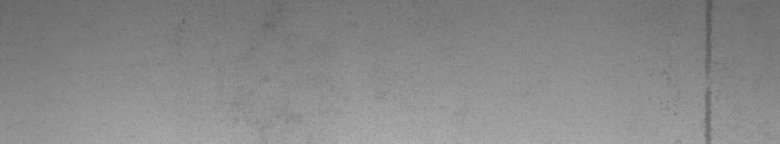hd: (665, 4, 718, 136)
